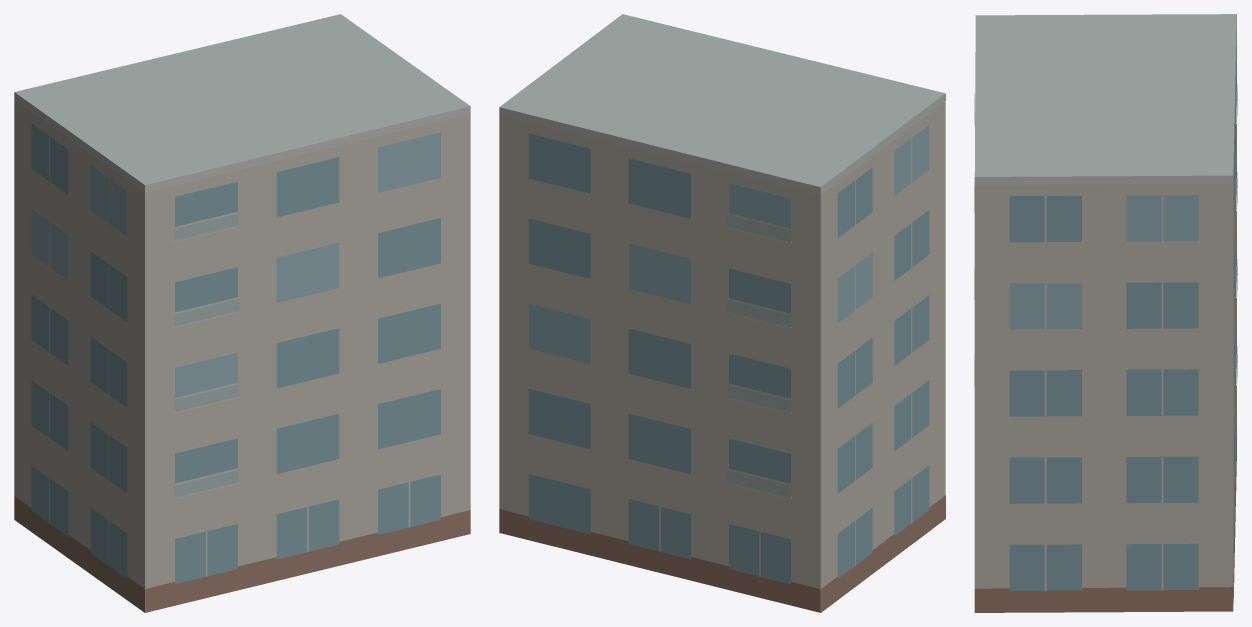
File: survey-upis-32819884.glb
3 views of the same model, side by side, from view 1: azimuth 30°, elevation 25°; view 2: azimuth 150°, elevation 25°; view 3: azimuth 270°, elevation 25° (orthographic). The views are drawn at different scales.
Visible parts, largest first — view 1: survey-upis-32819884.tmp; view 2: survey-upis-32819884.tmp; view 3: survey-upis-32819884.tmp.
Boxes of the visible parts, x1,y1,x2,y2 form: survey-upis-32819884.tmp: (14, 14, 470, 612); survey-upis-32819884.tmp: (499, 14, 945, 612); survey-upis-32819884.tmp: (974, 14, 1237, 612).
Size of the model in its own units: 10.8 by 13.45 by 7.38.
